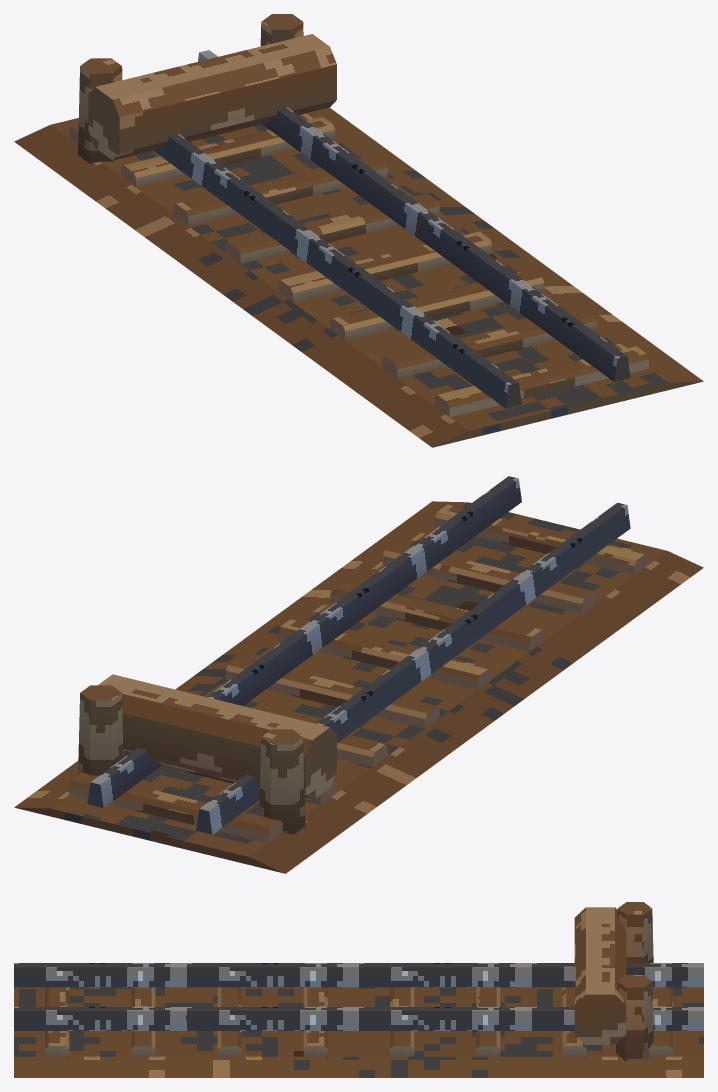
The model's file is wmine.track__end.glb.
3 views of the same model, one above another, from view 1: azimuth 30°, elevation 25°; view 2: azimuth 150°, elevation 25°; view 3: azimuth 270°, elevation 25° (orthographic). The views are drawn at different scales.
Visible parts, largest first — view 1: kit_ballast, kit_rails, kit_ties, kit_chock; view 2: kit_ballast, kit_rails, kit_ties, kit_chock; view 3: kit_ballast, kit_rails, kit_chock, kit_ties.
Boxes of the visible parts, x1,y1,x2,y2 form: kit_ballast: (14,107,703,447); kit_rails: (153,50,630,408); kit_ties: (69,116,648,416); kit_chock: (78,14,336,163); kit_ballast: (14,501,703,873); kit_rails: (87,476,630,834); kit_ties: (69,504,648,843); kit_chock: (78,674,336,834); kit_ballast: (14,987,703,1077); kit_rails: (14,963,703,1030); kit_chock: (574,902,653,1061); kit_ties: (45,987,672,1056).
Bounding box in the file's own units: 1.5 × 0.502 × 4.
4 materials, 4 textured.
